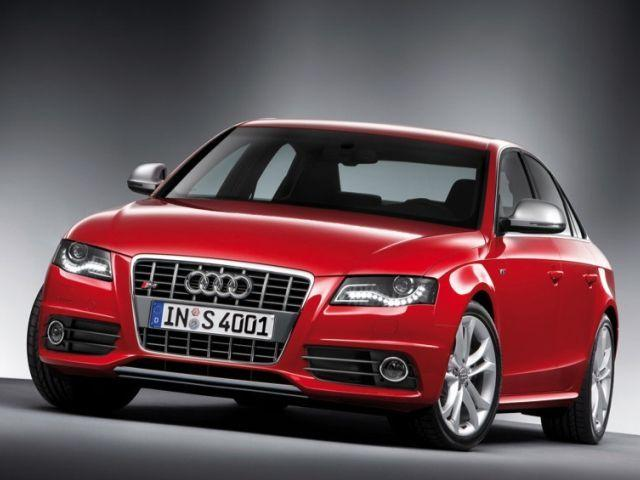Audi: (176, 260, 270, 307)
